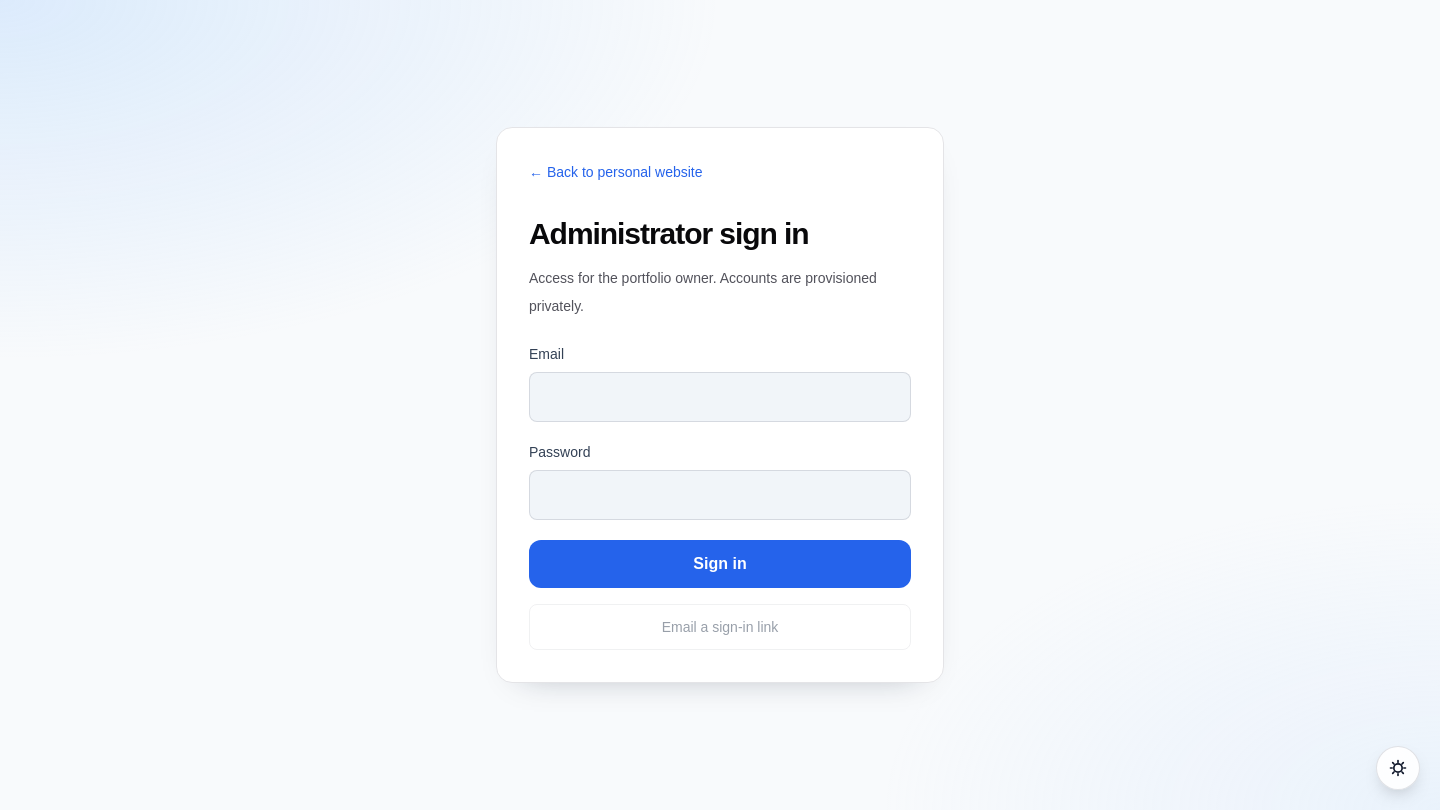
Test case: administrator login choices › recovers from a thrown network error without showing its raw message
The width and height of the screenshot is (1440, 810).
In the field labelled "Email": (720, 397) [529,372,911,422], type "owner@example.com"
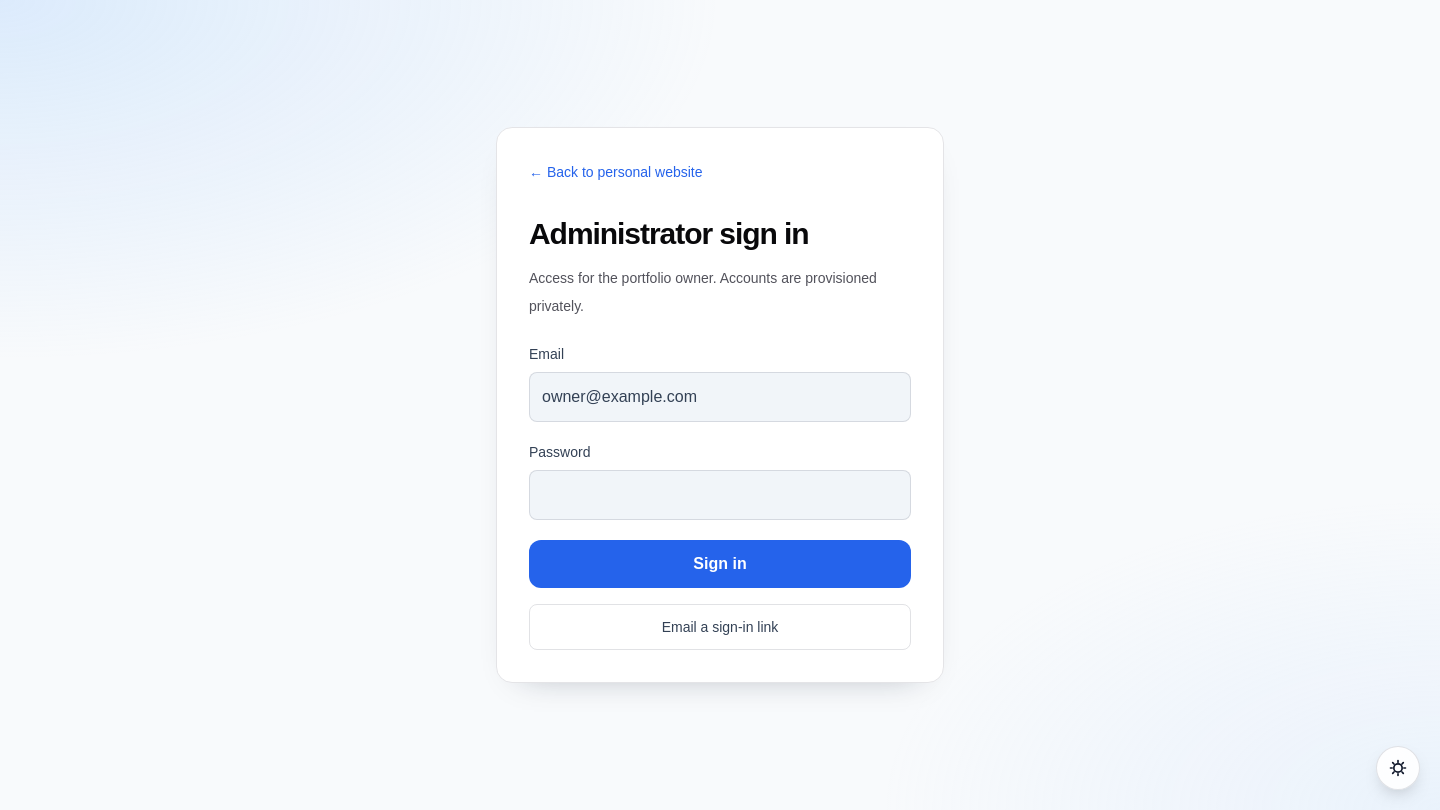
Click the button "Email a sign-in link": (720, 627) [529,604,911,650]
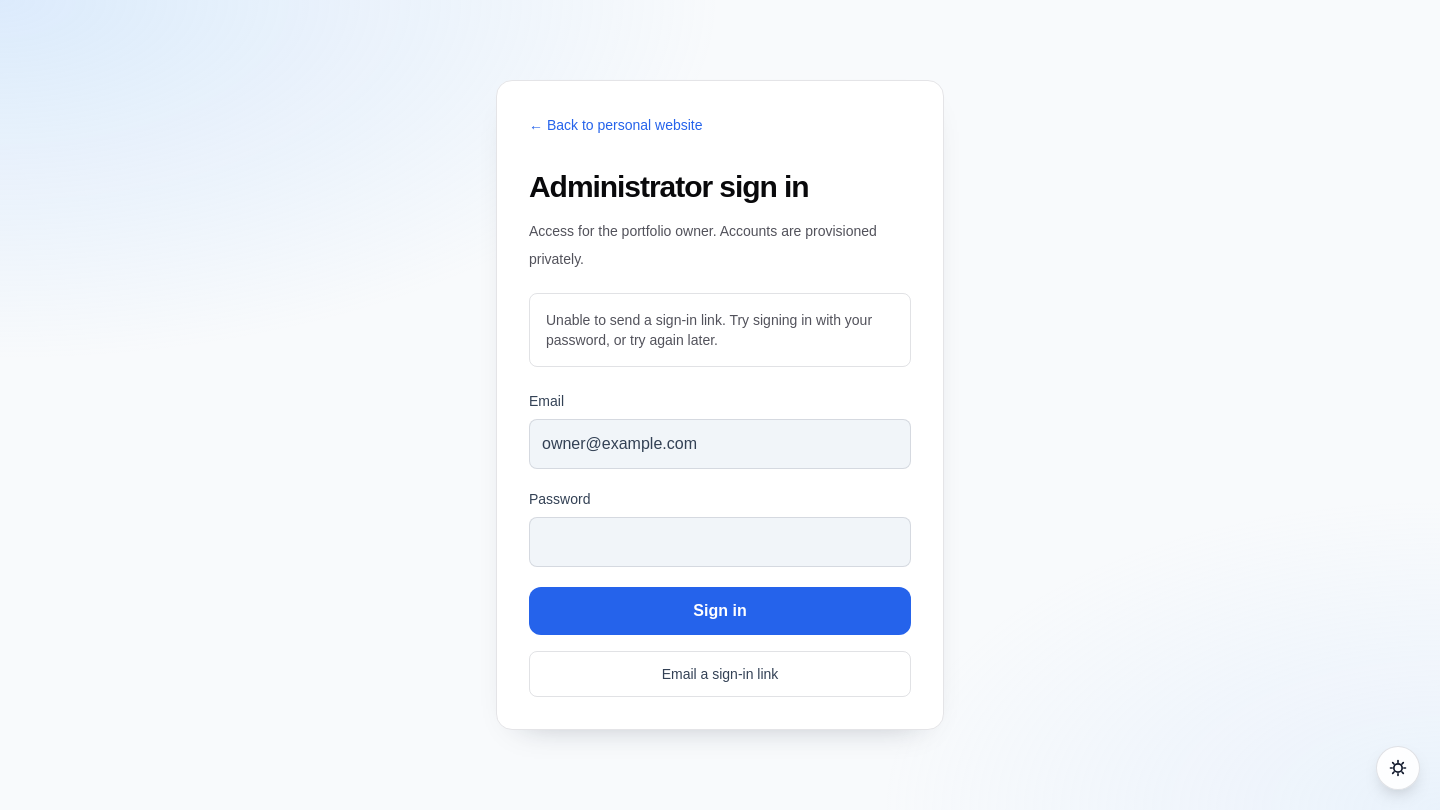
Result: the button "Email a sign-in link" is enabled at [529,651,911,697]
Result: the message shows "Try signing in with your password" at [546,312,872,348]
